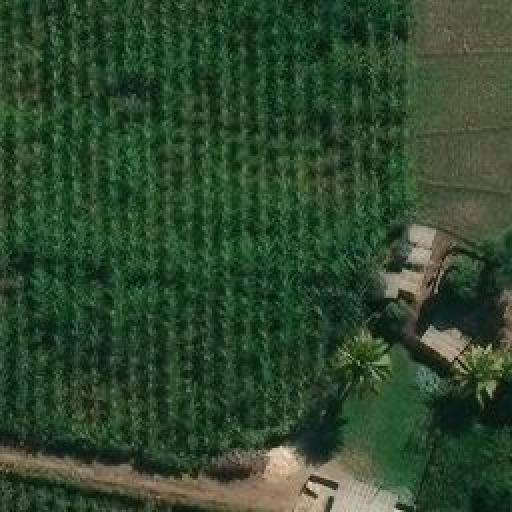manzanas: (369, 216, 504, 373), (284, 463, 424, 510)
